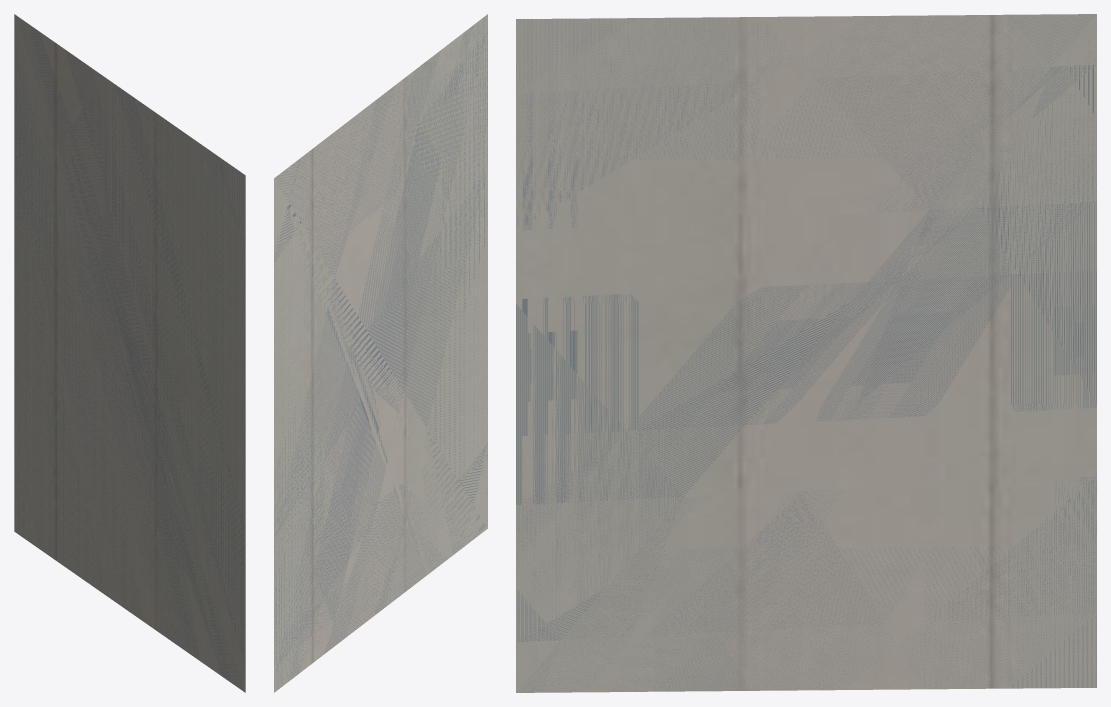
File: 水立方19.dae
3 views of the same model, side by side, from view 1: azimuth 30°, elevation 25°; view 2: azimuth 150°, elevation 25°; view 3: azimuth 270°, elevation 25° (orthographic). The views are drawn at different scales.
Visible parts, largest first — view 1: SketchUp; view 2: SketchUp; view 3: SketchUp.
Boxes of the visible parts, x1,y1,x2,y2 form: SketchUp: [14, 14, 245, 692]; SketchUp: [274, 14, 487, 692]; SketchUp: [516, 14, 1096, 692].
Size of the model in its own units: 2.76 by 131 by 168.
